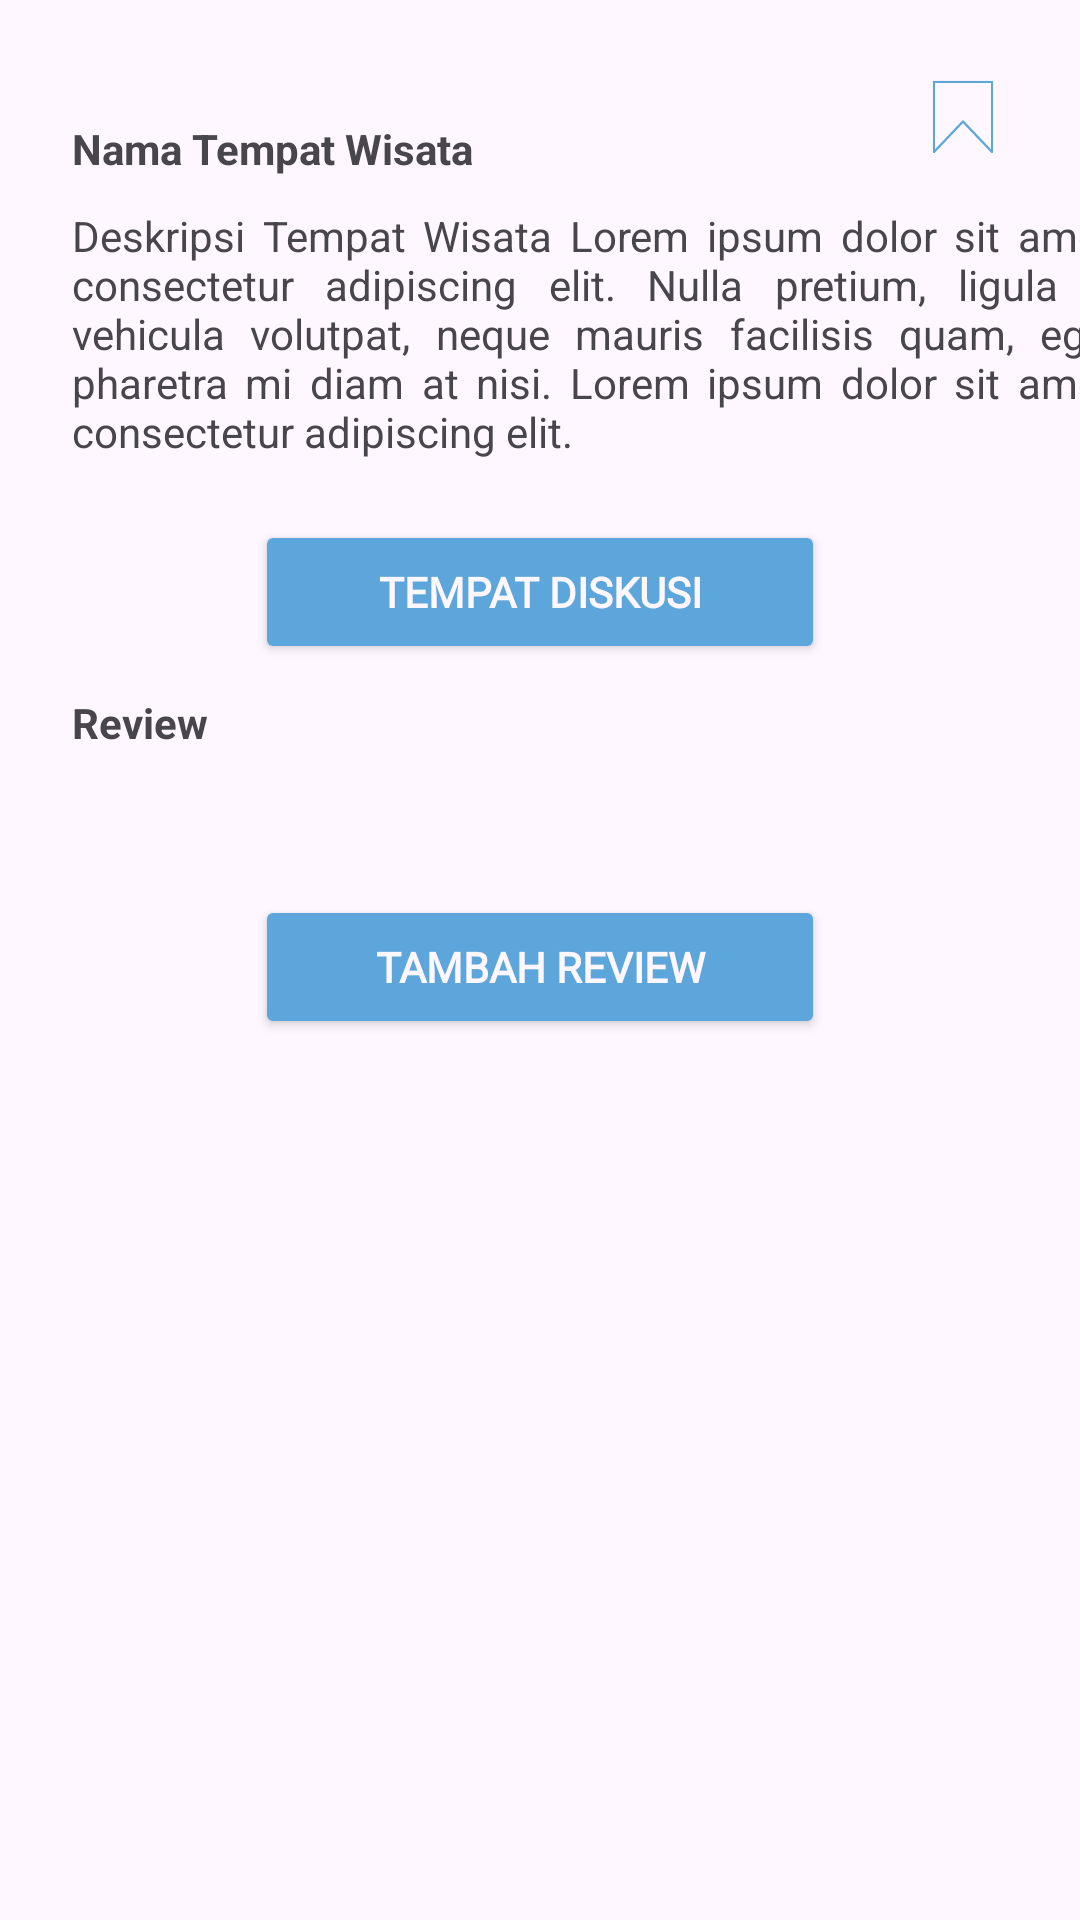

Locate icon controls on the screen. Image size 1080px x 1920px, boxes as (x1=x1, y1=y1, x2=x2, y2=y2).
bookmark: (x1=933, y1=81, x2=993, y2=153)
